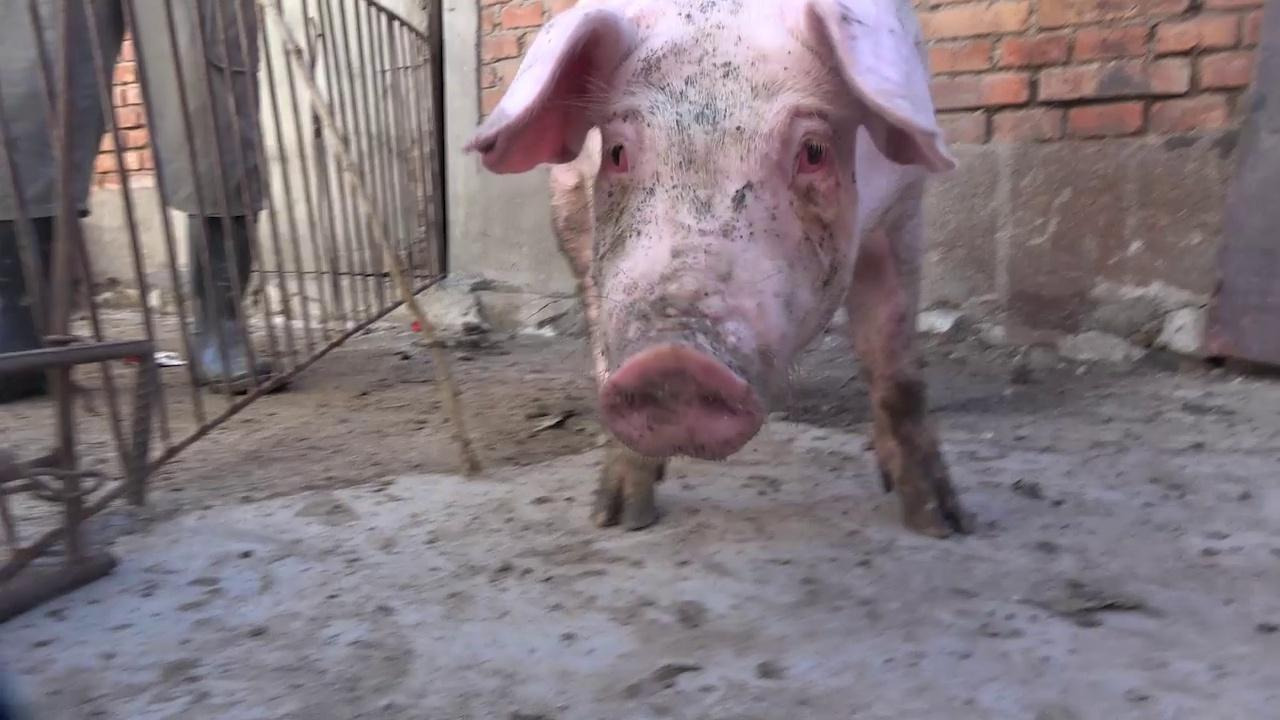Face: (453, 0, 980, 475)
